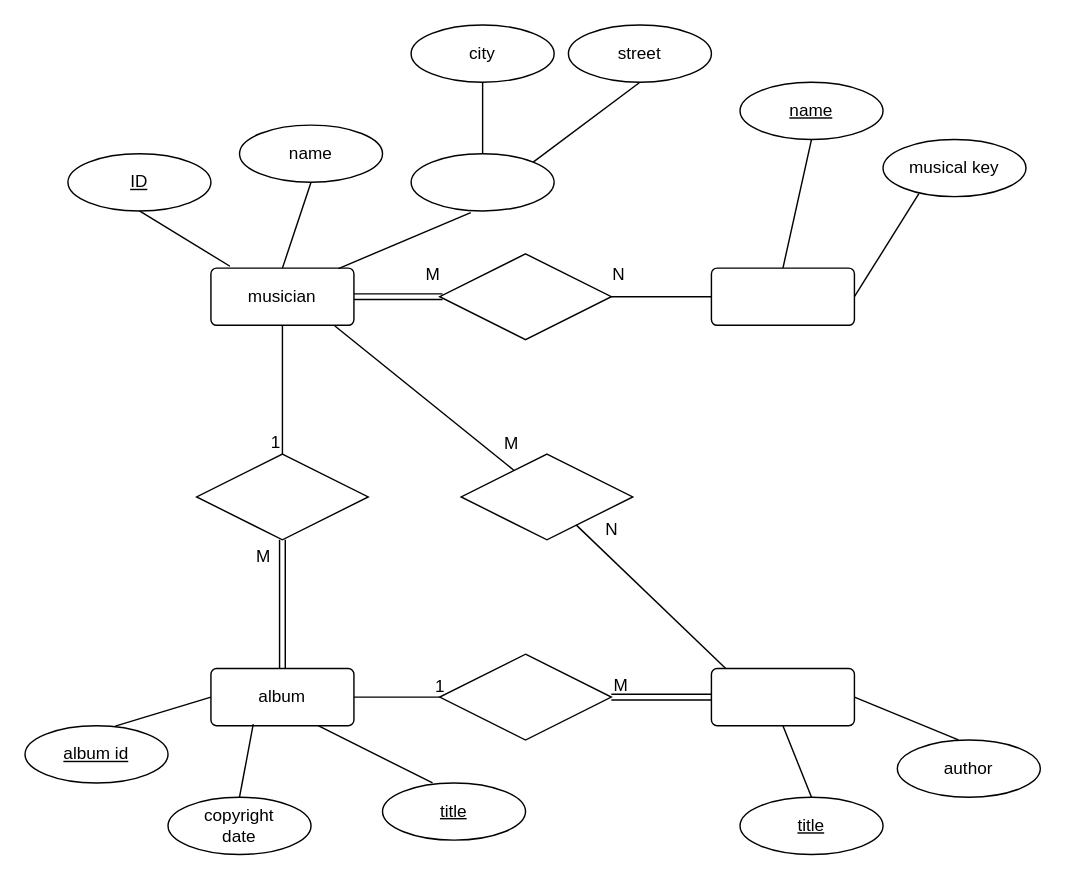
This 1065x879 diagram has some shape labels left out. Each missing label, with the box of its shape:
address: (410, 152, 554, 211)
has: (438, 653, 611, 740)
instrument: (710, 267, 854, 325)
Perform: (460, 453, 633, 540)
Plays: (438, 252, 611, 340)
Produce: (195, 453, 368, 540)
song: (710, 667, 854, 726)
